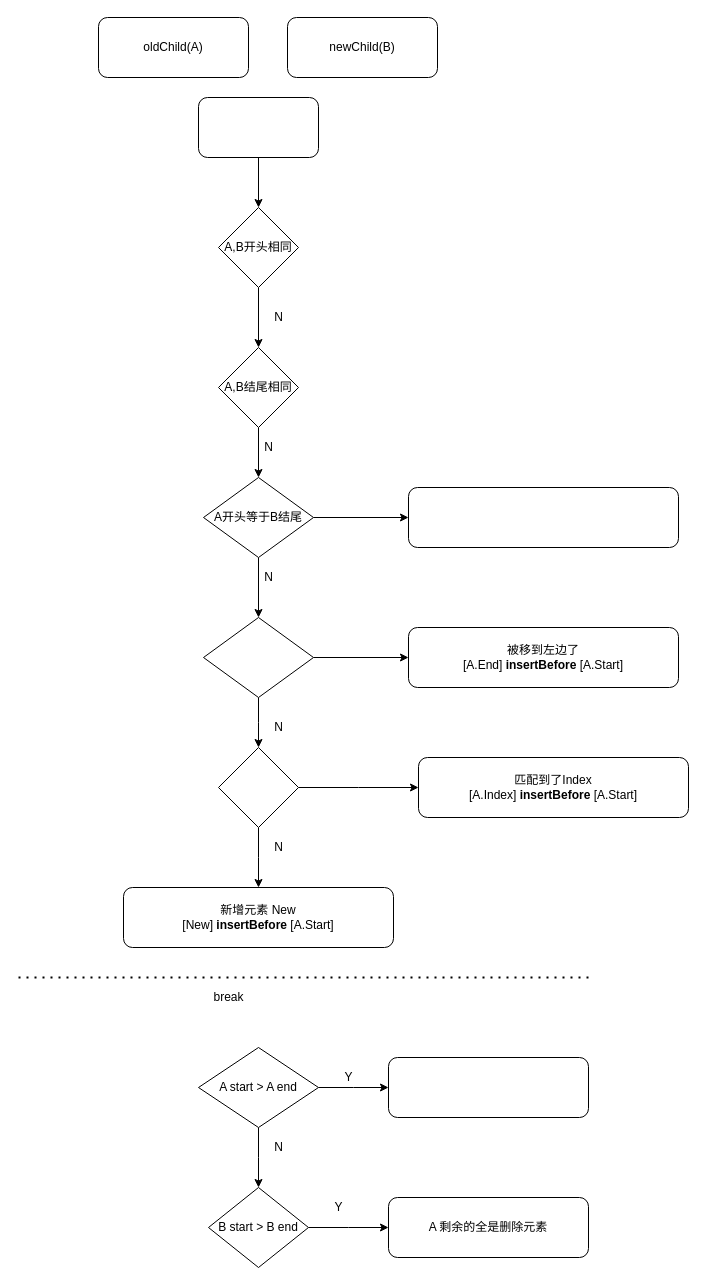
Image size: 706x1285. Some labels were removed from this diagram. The box of each missing label's shape, as (x1, y1, x2, y2) in pixels:
A结尾等于B开头: (202, 616, 314, 698)
B 剩余的全是新增元素: (388, 1056, 588, 1118)
from A start -> A end from B start -> B end: (198, 96, 318, 158)
keyMap 匹配: (218, 746, 298, 828)
被移到右边了 [A开头] insertBefore [A.End.nextSilibing]: (408, 486, 678, 548)
